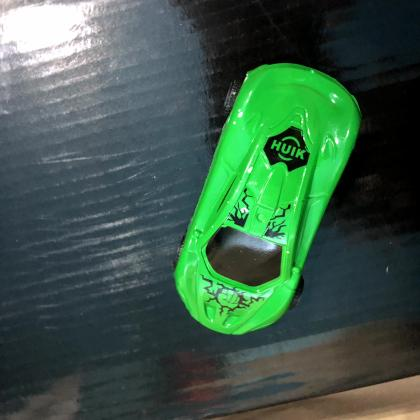Car: (172, 59, 364, 337)
